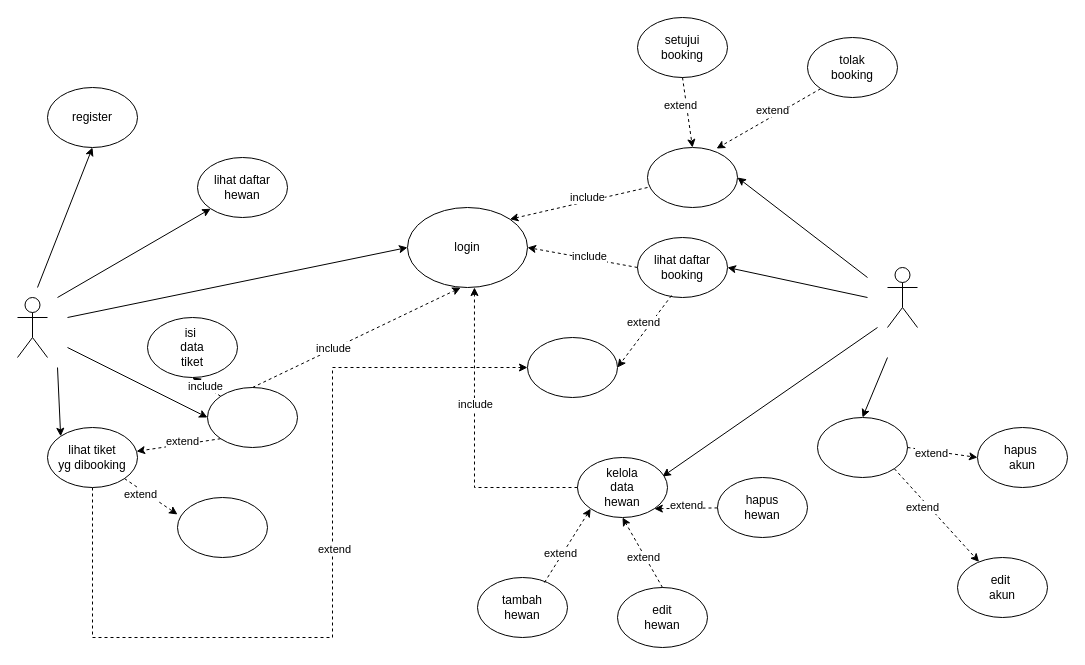
Some shapes in this 1085 by 665 pixel diagram are drawn without their labels. The shapes that lost their labels are listed below. From the top down, each one's centre as x and y in pixels, then its label:
the point at 692,177: konfirmasi booking
the point at 902,297: admin
the point at 32,327: user
the point at 572,367: cetak struk
the point at 252,417: booking tiket
the point at 862,447: lihat daftar akun
the point at 222,527: lihat status tiket
